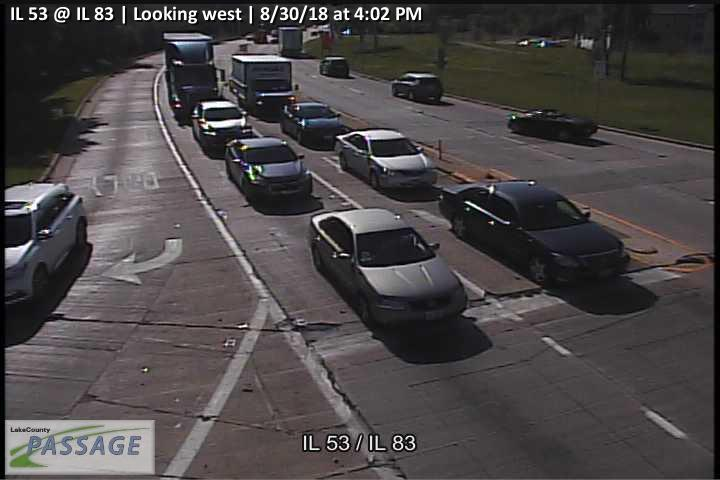SUV: (391, 71, 443, 100), (319, 56, 350, 78)
Sedan: (438, 178, 625, 284), (307, 205, 468, 328), (1, 182, 90, 309), (335, 124, 435, 195), (335, 128, 432, 194), (225, 135, 312, 204), (192, 101, 254, 161), (282, 102, 342, 154), (508, 108, 599, 142)
Truck: (229, 52, 296, 120), (164, 31, 216, 87), (277, 26, 304, 56)
